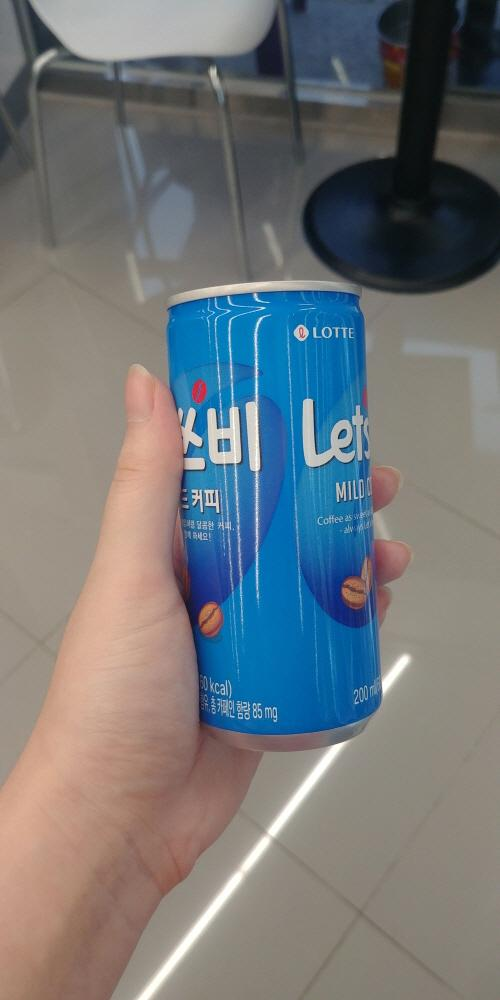letsbe: (148, 268, 419, 768)
